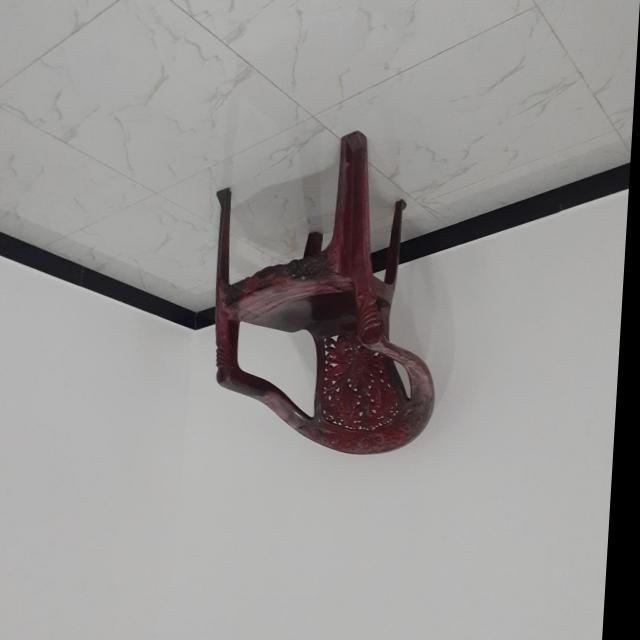Chair: (207, 132, 451, 456)
